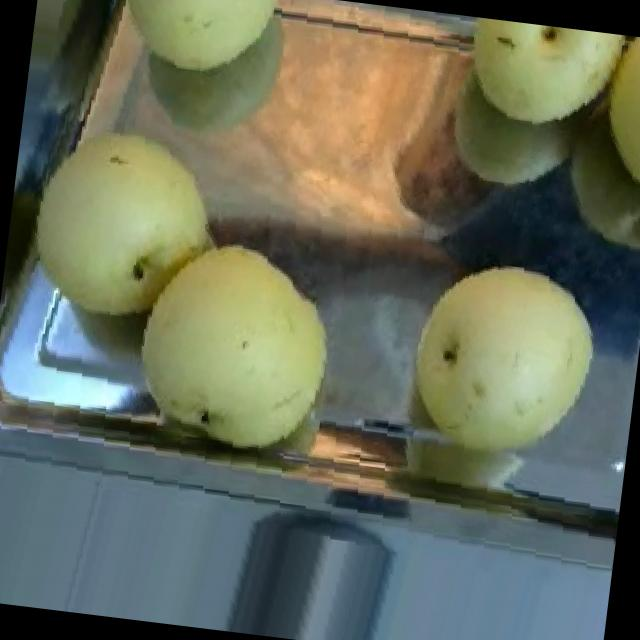Fruit: (0, 87, 258, 354), (102, 207, 363, 467), (386, 244, 616, 476), (435, 13, 640, 161), (78, 0, 287, 109), (568, 31, 640, 224)
